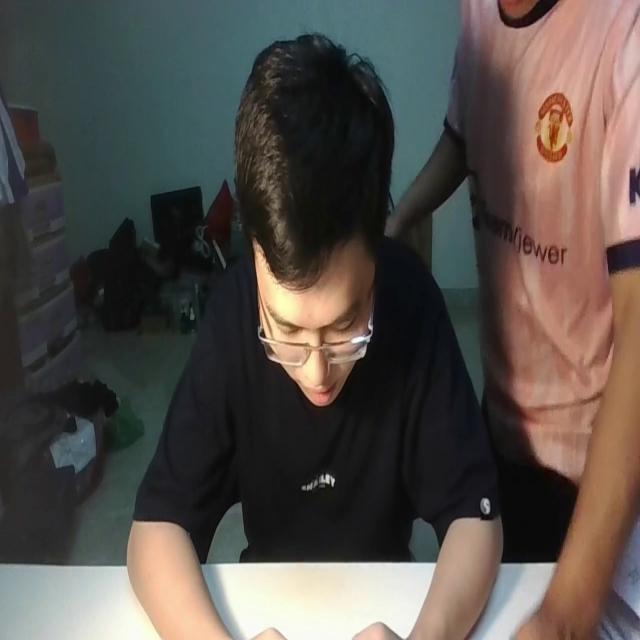extra_person: (384, 0, 640, 640)
student: (123, 34, 505, 640)
